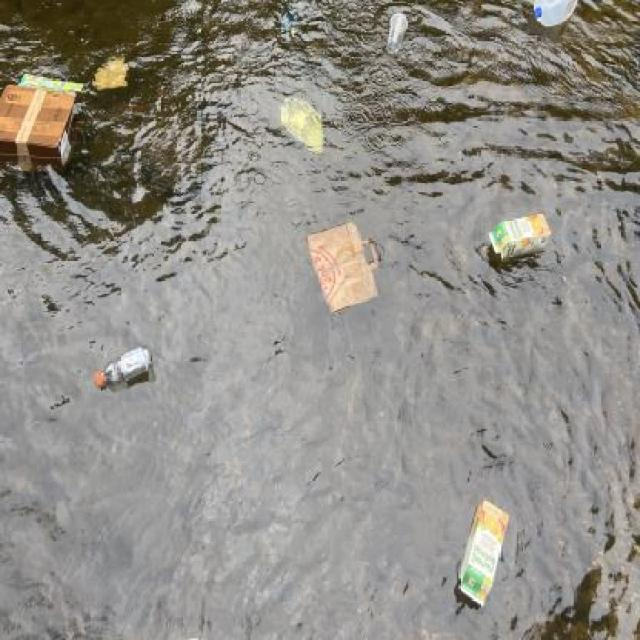Can-Metal: (302, 216, 391, 324)
Cardboard: (0, 78, 83, 184), (450, 496, 515, 616), (484, 205, 558, 272), (12, 62, 88, 106)
Plastic: (90, 335, 156, 403), (276, 90, 330, 165), (376, 6, 416, 65), (528, 0, 583, 40)
